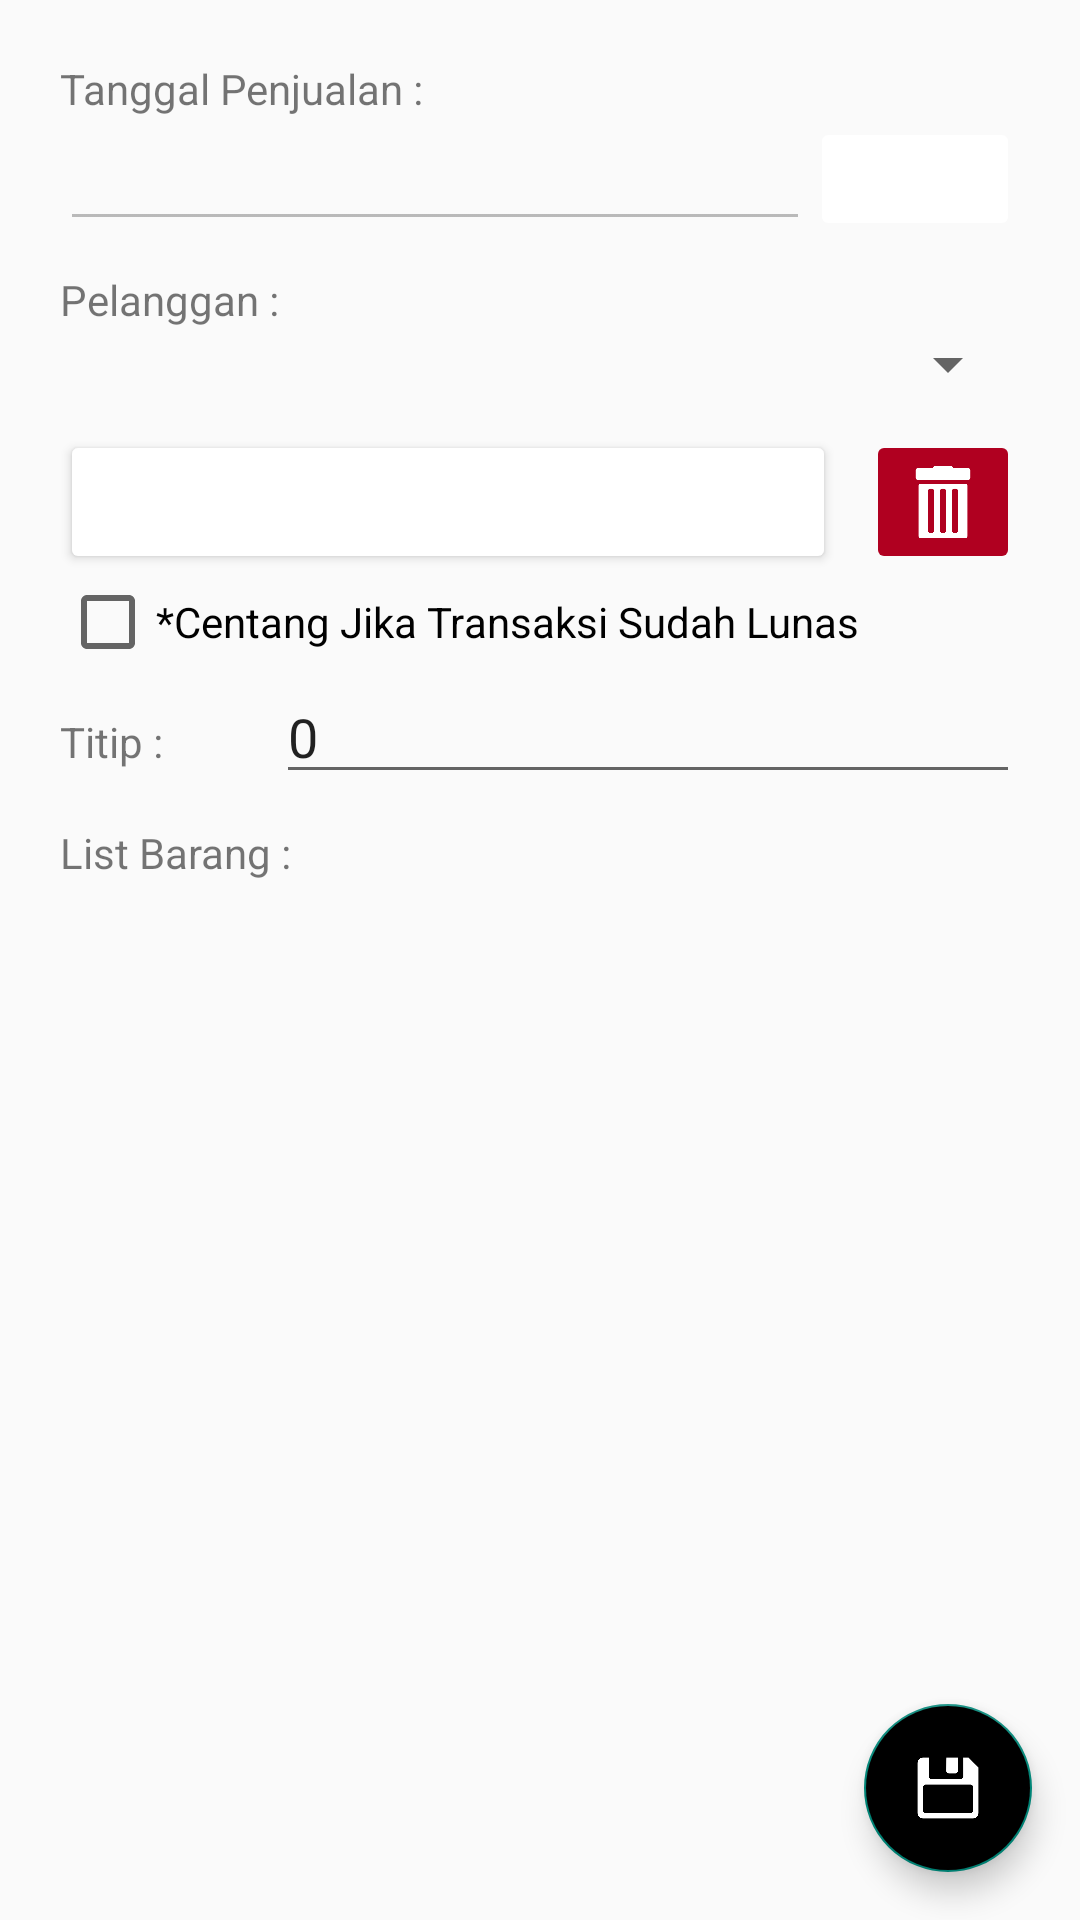

Icons on this 1080 × 1920 Android screen, each with its box as (x1, y1, x2, y2):
save: (864, 1704, 1032, 1872)
trash: (878, 448, 1008, 556)
